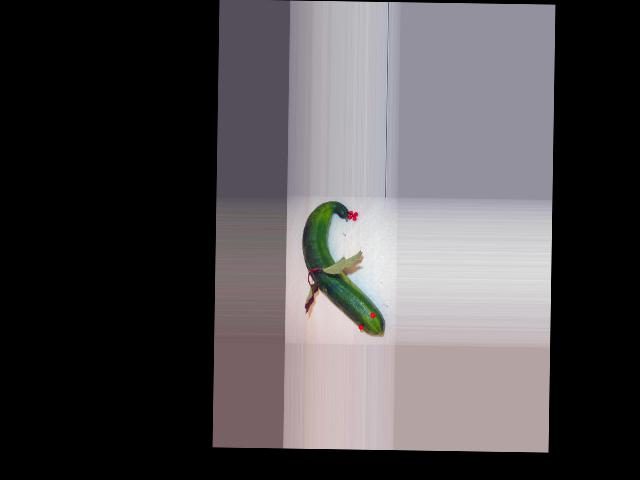cucumber: (300, 200, 387, 335)
